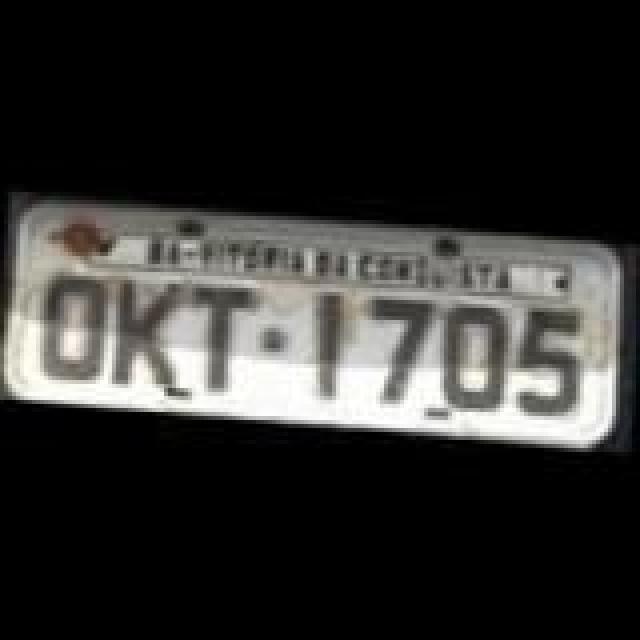1: (292, 276, 352, 396)
5: (508, 300, 588, 420)
7: (362, 288, 434, 404)
K: (104, 260, 180, 400)
O: (34, 260, 106, 396), (430, 294, 506, 422)
T: (176, 276, 252, 388)
